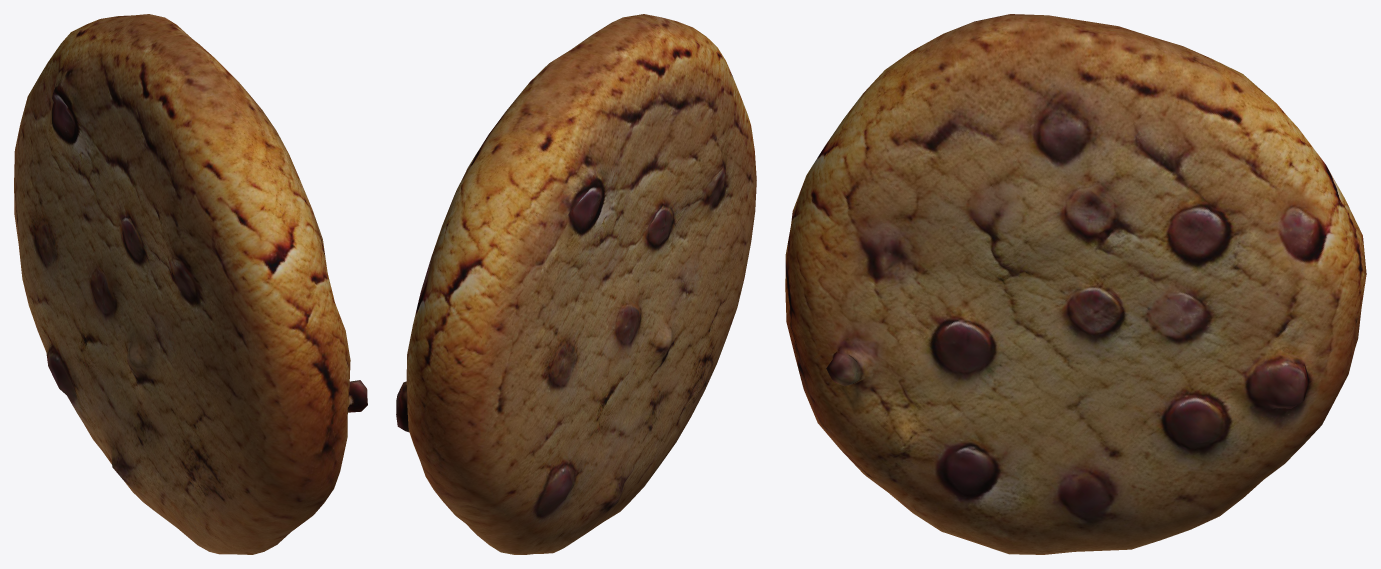
The model's file is eacb588ac819_cookie_min.fbx.
3 views of the same model, side by side, from view 1: azimuth 30°, elevation 25°; view 2: azimuth 150°, elevation 25°; view 3: azimuth 270°, elevation 25° (orthographic). The views are drawn at different scales.
Parts seen in each view (by area): view 1: mesh; view 2: mesh; view 3: mesh.
Boxes of the visible parts, x1,y1,x2,y2 form: mesh: (14,14,367,554); mesh: (396,14,756,554); mesh: (785,14,1366,554).
Bounding box in the file's own units: 32.42 × 98.69 × 99.76.
